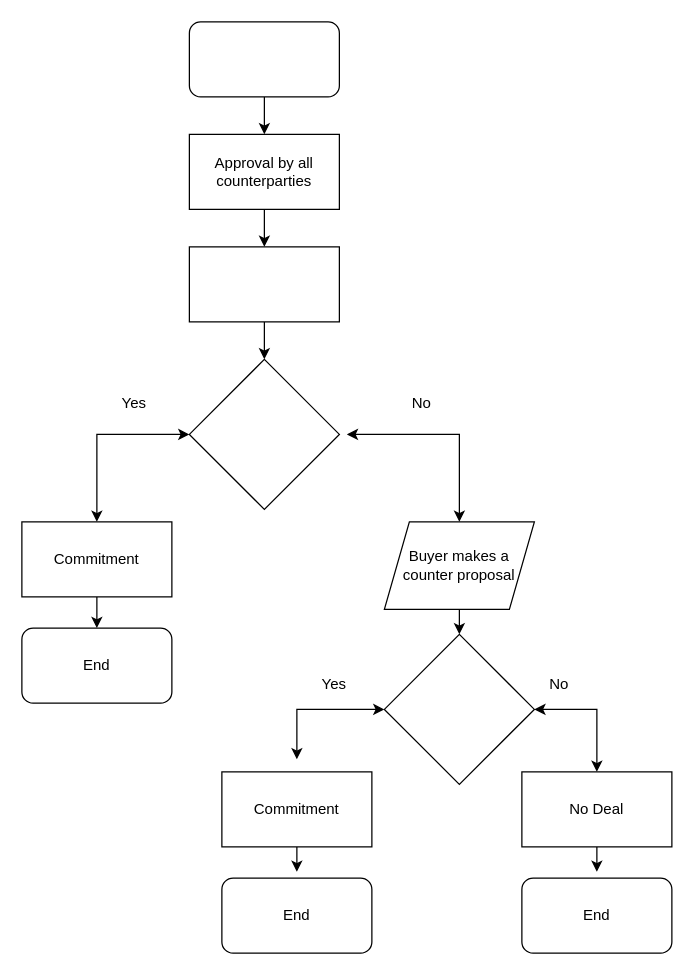
Some shapes in this 694 by 975 pixel diagram are drawn without their labels. The box of each missing label's shape, as (x1, y1, x2, y2) in pixels:
Buyer is reviewing the Finance proposal Agreement?: (188, 358, 339, 509)
Finance is building the proposition: (188, 246, 339, 322)
Finance reviews Buyer counterproposal Agreement?: (383, 633, 534, 784)
Start: (188, 21, 339, 97)
